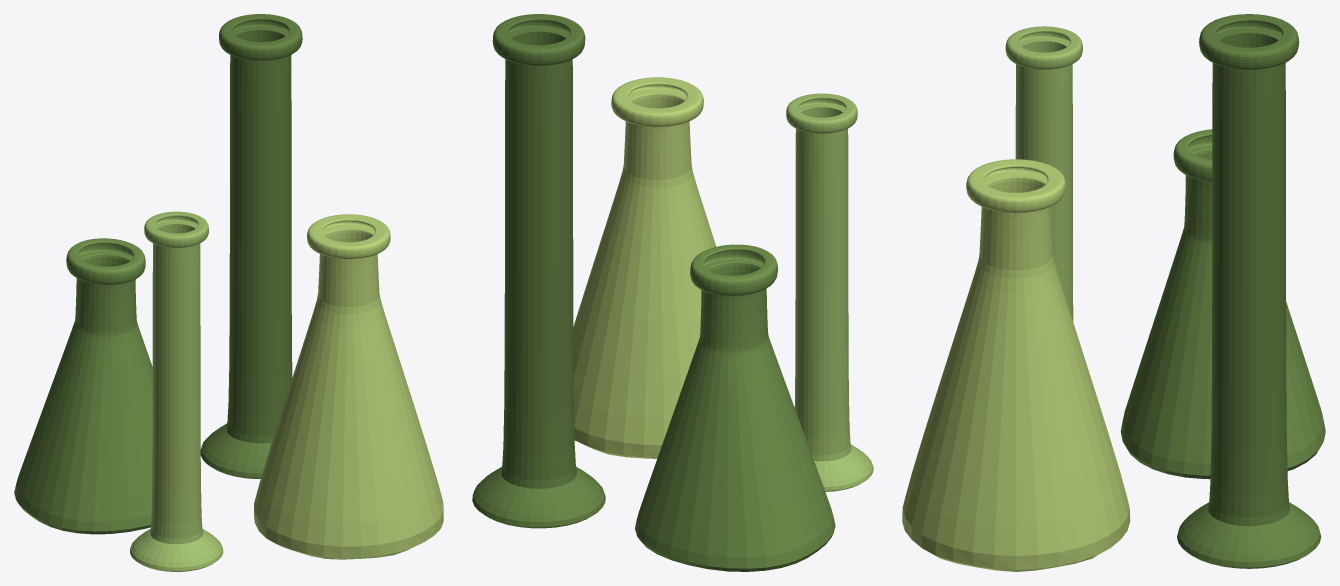
File: Beaker_Group3.glb
The picture shows the model from 3 angles, left to right: view 1: azimuth 30°, elevation 25°; view 2: azimuth 150°, elevation 25°; view 3: azimuth 270°, elevation 25°; orthographic projection. The views are drawn at different scales.
Parts seen in each view (by area): view 1: pCylinder6, pCylinder5, pCylinder1, pCylinder4; view 2: pCylinder1, pCylinder5, pCylinder6, pCylinder4; view 3: pCylinder6, pCylinder5, pCylinder1, pCylinder4.
Boxes of the visible parts, x1,y1,x2,y2 form: pCylinder6: [254, 214, 443, 559]; pCylinder5: [200, 14, 302, 478]; pCylinder1: [14, 238, 152, 534]; pCylinder4: [130, 211, 223, 571]; pCylinder1: [635, 244, 835, 571]; pCylinder5: [472, 14, 605, 528]; pCylinder6: [573, 77, 716, 458]; pCylinder4: [786, 93, 873, 491]; pCylinder6: [902, 159, 1130, 571]; pCylinder5: [1177, 14, 1321, 568]; pCylinder1: [1120, 129, 1325, 479]; pCylinder4: [1005, 26, 1082, 321].
Bounding box in the file's own units: 1.3 × 1.69 × 1.27.
